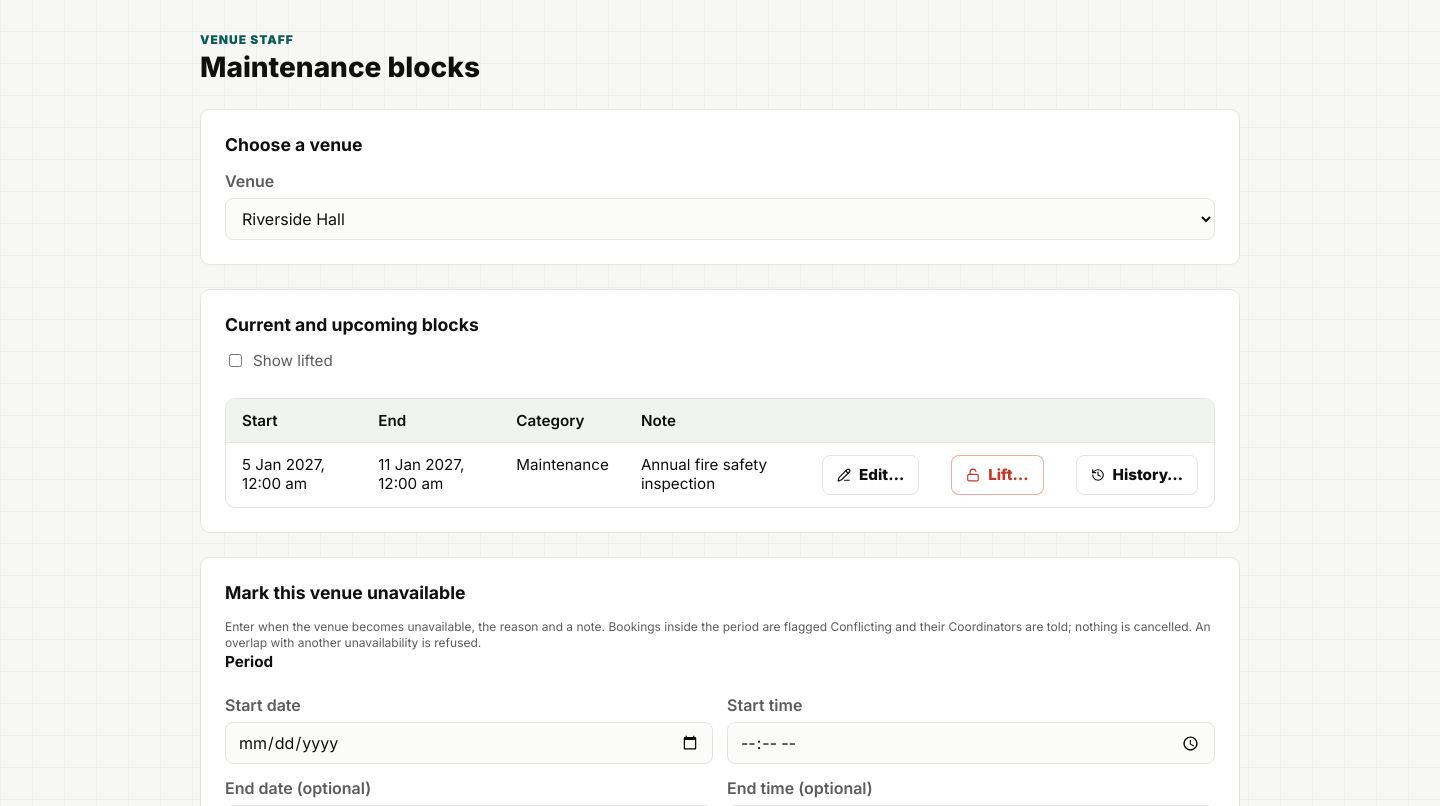
Test: TC_E05S04_01 - lists current and upcoming blocks for the picked venue, then creates a new one (Scenario 1)
expect the heading "Maintenance blocks" is shown: met, box [200,51,480,85]
expect the text "Annual fire safety inspection" is shown: met, box [625,443,806,507]
Type "2027-02-01" into the date field labelled "Start date" at (469, 743), box [225,722,713,764]
Type "00:00" into the time field labelled "Start time" at (971, 743), box [727,722,1215,764]
(page scrolled)
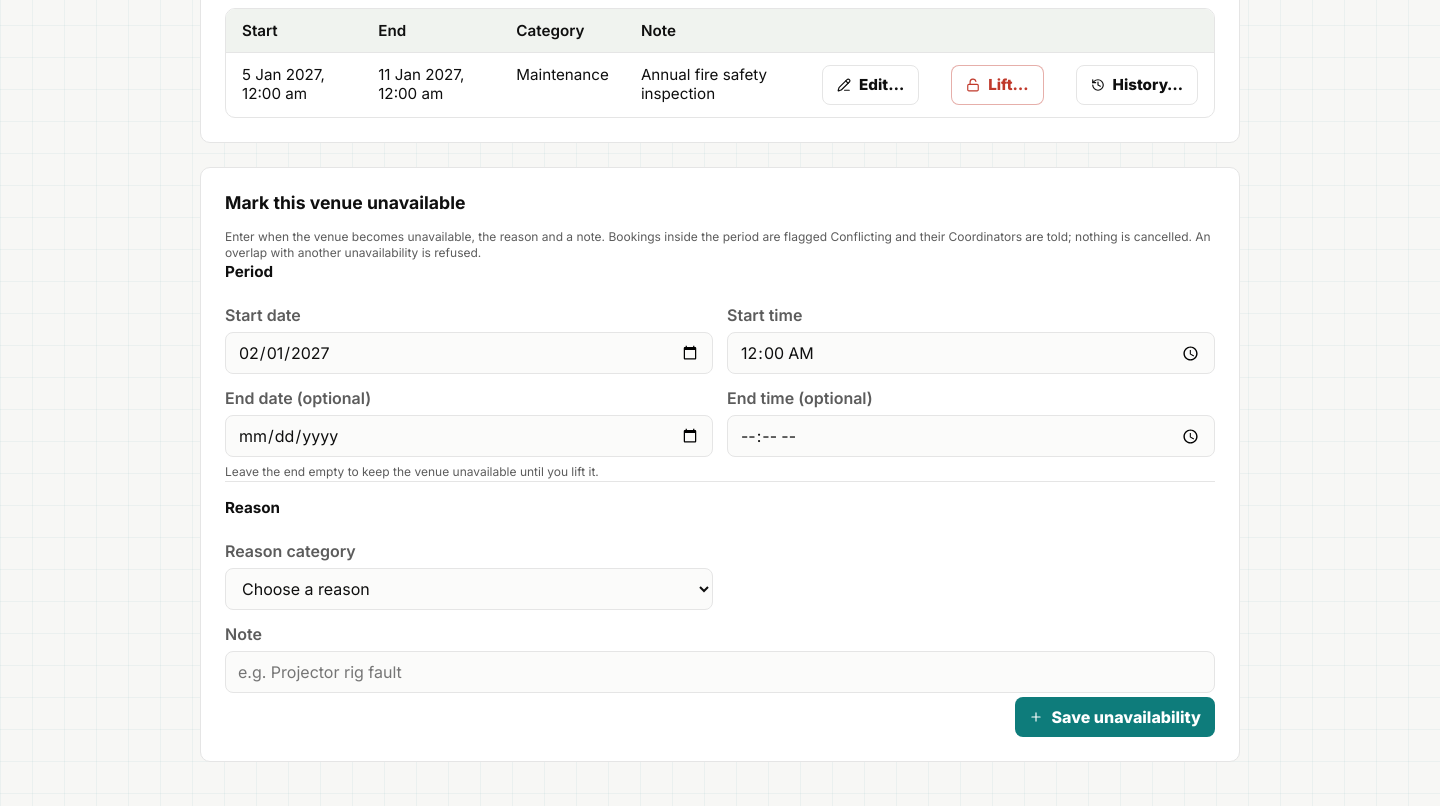
Type "2027-02-04" into the date field labelled "End date (optional)" at (469, 436), box [225,415,713,457]
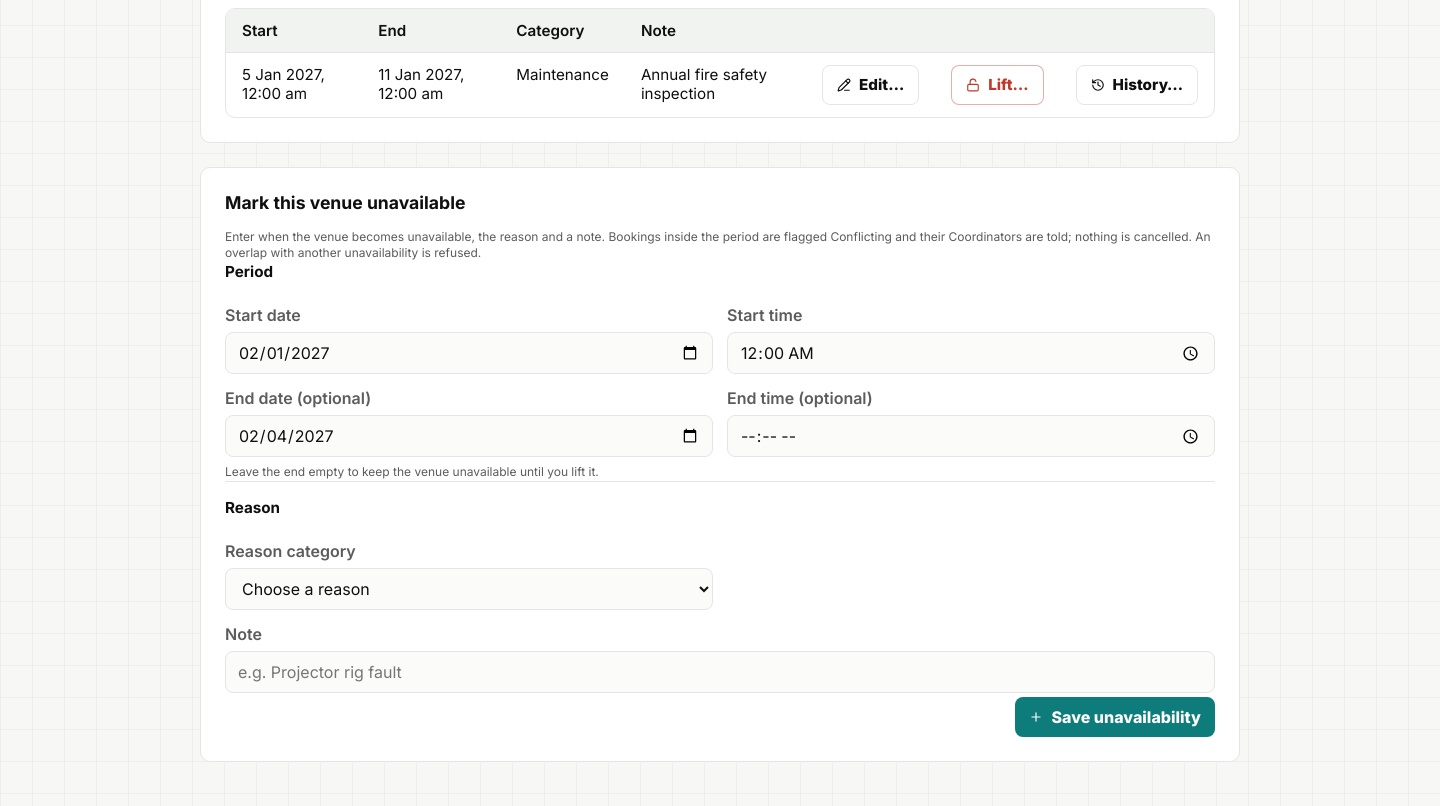
Type "00:00" into the time field labelled "End time (optional)" at (971, 436), box [727,415,1215,457]
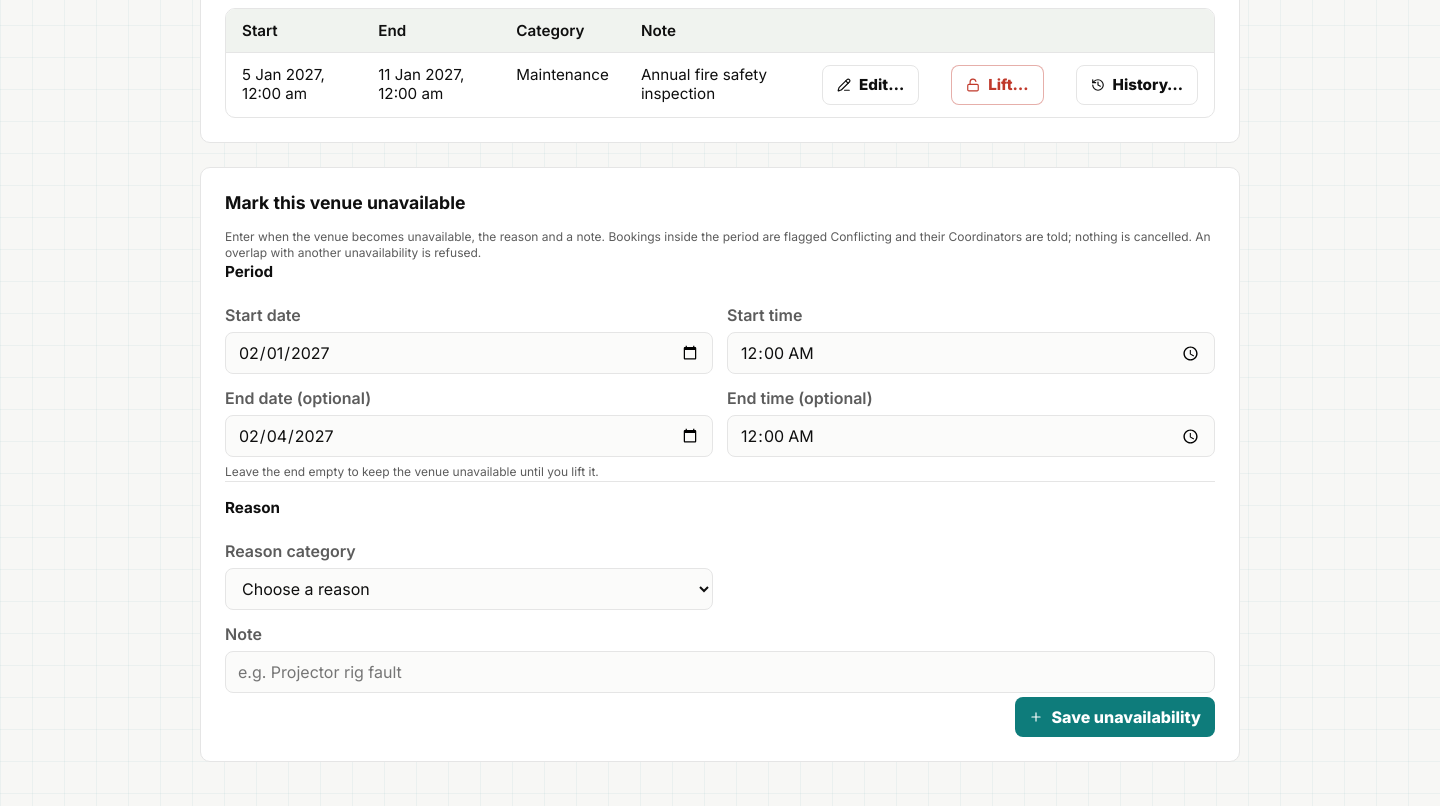
Select "Maintenance" in the dropdown labelled "Reason category" at (469, 589), box [225,568,713,610]
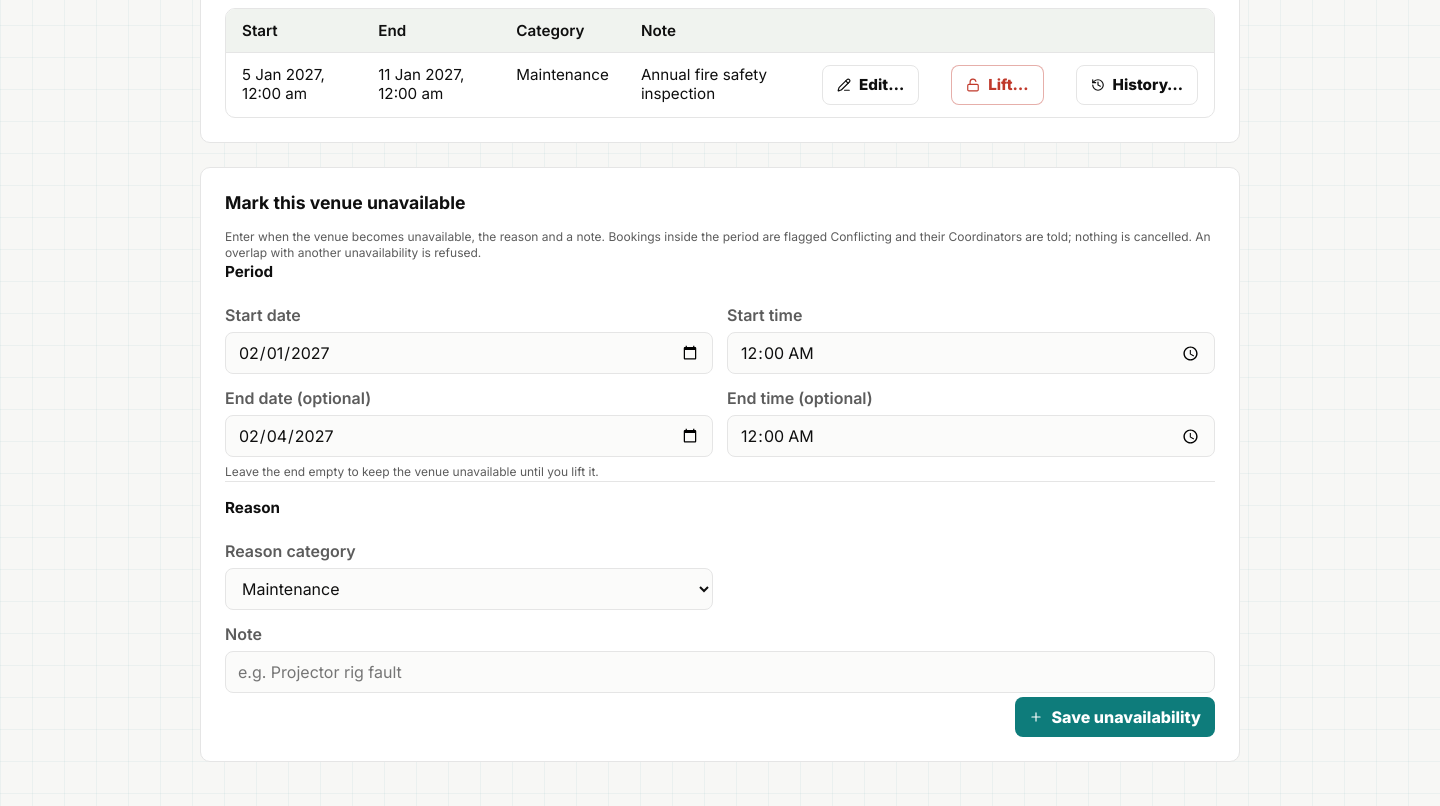
Type "Scheduled maintenance" into the field labelled "Note" at (720, 672), box [225,651,1215,693]
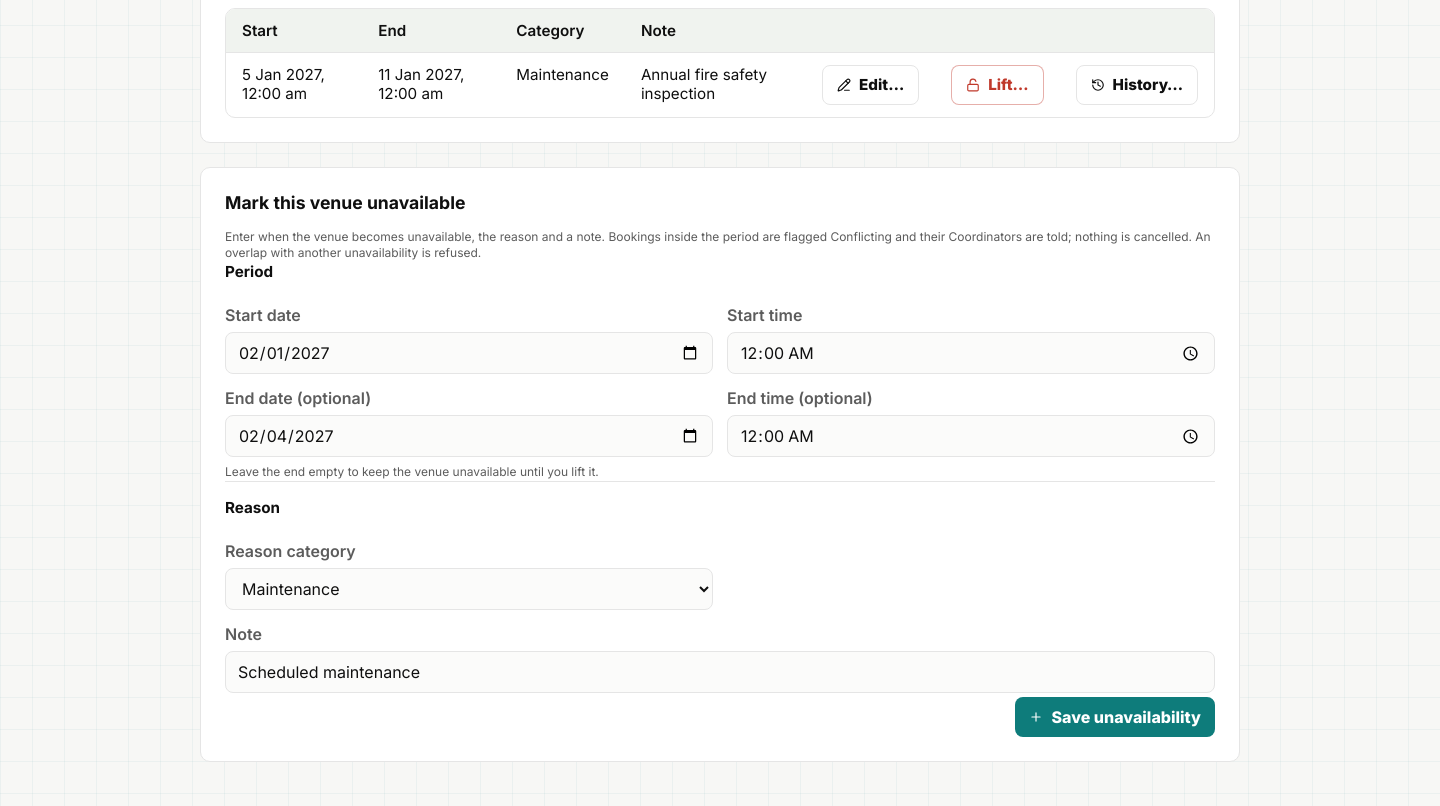
Click the button "Save unavailability" at (1115, 717), box [1016,697,1215,737]
(page scrolled)
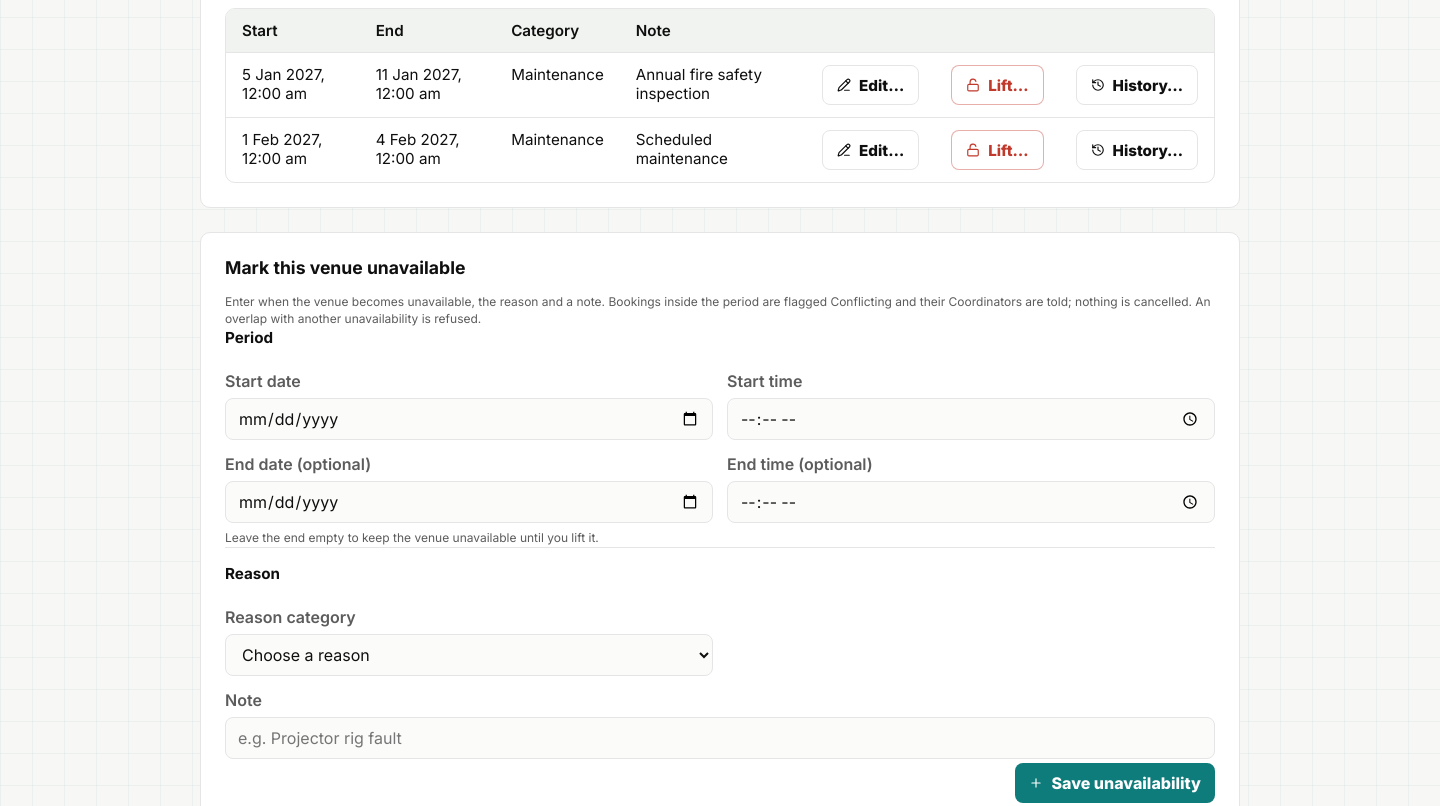
expect the cell "Scheduled maintenance" is shown: met, box [620,118,806,182]
